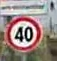limite 40: (6, 16, 41, 52)
